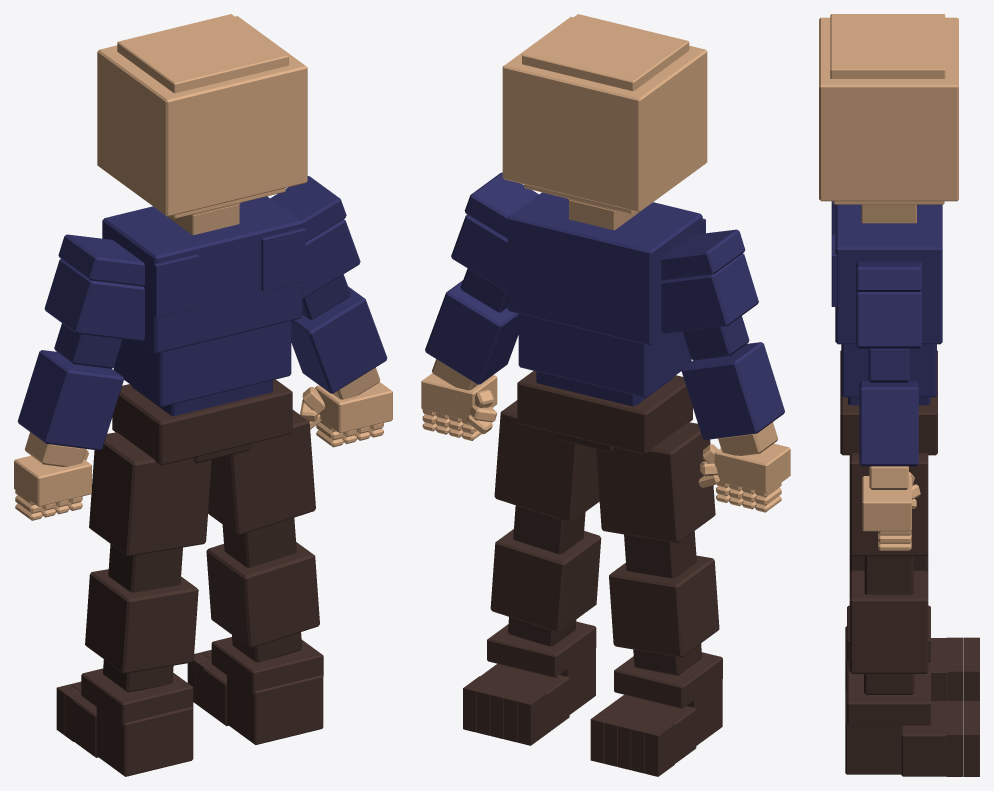
The model's file is npc_treinador.glb.
The picture shows the model from 3 angles, left to right: view 1: azimuth 30°, elevation 25°; view 2: azimuth 150°, elevation 25°; view 3: azimuth 270°, elevation 25°; orthographic projection. The views are drawn at different scales.
Visible parts, largest first — view 1: Geo_Head_Runtime, Geo_Chest_Runtime, Geo_Thigh_L_Runtime, Geo_Abdomen_Runtime, Geo_Shin_L_Runtime, Geo_Pelvis_Runtime, Geo_Shin_R_Runtime, Geo_Thigh_R_Runtime, Geo_HeadTop_Runtime, Geo_ForeArm_L_Runtime, Geo_ForeArm_R_Runtime, Geo_UpperArm_L_Runtime (+23 smaller); view 2: Geo_Head_Runtime, Geo_Chest_Runtime, Geo_Thigh_L_Runtime, Geo_Abdomen_Runtime, Geo_Shin_L_Runtime, Geo_Pelvis_Runtime, Geo_Shin_R_Runtime, Geo_Thigh_R_Runtime, Geo_HeadTop_Runtime, Geo_ForeArm_L_Runtime, Geo_ForeArm_R_Runtime, Geo_UpperArm_L_Runtime (+31 smaller); view 3: Geo_Head_Runtime, Geo_Chest_Runtime, Geo_HeadTop_Runtime, Geo_Shin_R_Runtime, Geo_ForeArm_R_Runtime, Geo_UpperArm_R_Runtime, Geo_Thigh_R_Runtime, Geo_AnkleCuff_R_Runtime, Geo_Heel_R_Runtime, Geo_Foot_R_Runtime, Geo_Abdomen_Runtime, Geo_Pelvis_Runtime (+17 smaller).
Part boxes in pixels (<box>): Geo_Head_Runtime: <box>97,16,307,216</box>; Geo_Chest_Runtime: <box>102,196,302,353</box>; Geo_Thigh_L_Runtime: <box>89,432,211,556</box>; Geo_Abdomen_Runtime: <box>113,321,291,407</box>; Geo_Shin_L_Runtime: <box>85,569,198,673</box>; Geo_Pelvis_Runtime: <box>112,379,292,465</box>; Geo_Shin_R_Runtime: <box>206,542,319,647</box>; Geo_Thigh_R_Runtime: <box>208,410,315,535</box>; Geo_HeadTop_Runtime: <box>117,14,288,93</box>; Geo_ForeArm_L_Runtime: <box>17,350,123,450</box>; Geo_ForeArm_R_Runtime: <box>291,286,387,393</box>; Geo_UpperArm_L_Runtime: <box>44,259,144,341</box>; Geo_Head_Runtime: <box>502,17,707,212</box>; Geo_Chest_Runtime: <box>507,192,702,345</box>; Geo_Thigh_L_Runtime: <box>596,422,715,543</box>; Geo_Abdomen_Runtime: <box>518,314,691,397</box>; Geo_Shin_L_Runtime: <box>609,555,719,657</box>; Geo_Pelvis_Runtime: <box>517,371,692,454</box>; Geo_Shin_R_Runtime: <box>490,529,601,632</box>; Geo_Thigh_R_Runtime: <box>494,400,599,522</box>; Geo_HeadTop_Runtime: <box>522,14,689,91</box>; Geo_ForeArm_L_Runtime: <box>681,342,784,439</box>; Geo_ForeArm_R_Runtime: <box>425,280,518,384</box>; Geo_UpperArm_L_Runtime: <box>661,253,758,333</box>; Geo_Head_Runtime: <box>819,17,958,201</box>; Geo_Chest_Runtime: <box>835,204,942,344</box>; Geo_HeadTop_Runtime: <box>830,14,945,78</box>; Geo_Shin_R_Runtime: <box>849,570,928,673</box>; Geo_ForeArm_R_Runtime: <box>859,381,918,466</box>; Geo_UpperArm_R_Runtime: <box>856,290,921,348</box>; Geo_Thigh_R_Runtime: <box>849,453,928,556</box>; Geo_AnkleCuff_R_Runtime: <box>847,669,930,725</box>; Geo_Heel_R_Runtime: <box>845,689,902,774</box>; Geo_Foot_R_Runtime: <box>901,701,946,776</box>; Geo_Abdomen_Runtime: <box>841,344,936,397</box>; Geo_Pelvis_Runtime: <box>840,350,937,455</box>.
Size of the model in its own units: 1.07 by 1.98 by 0.4192.
